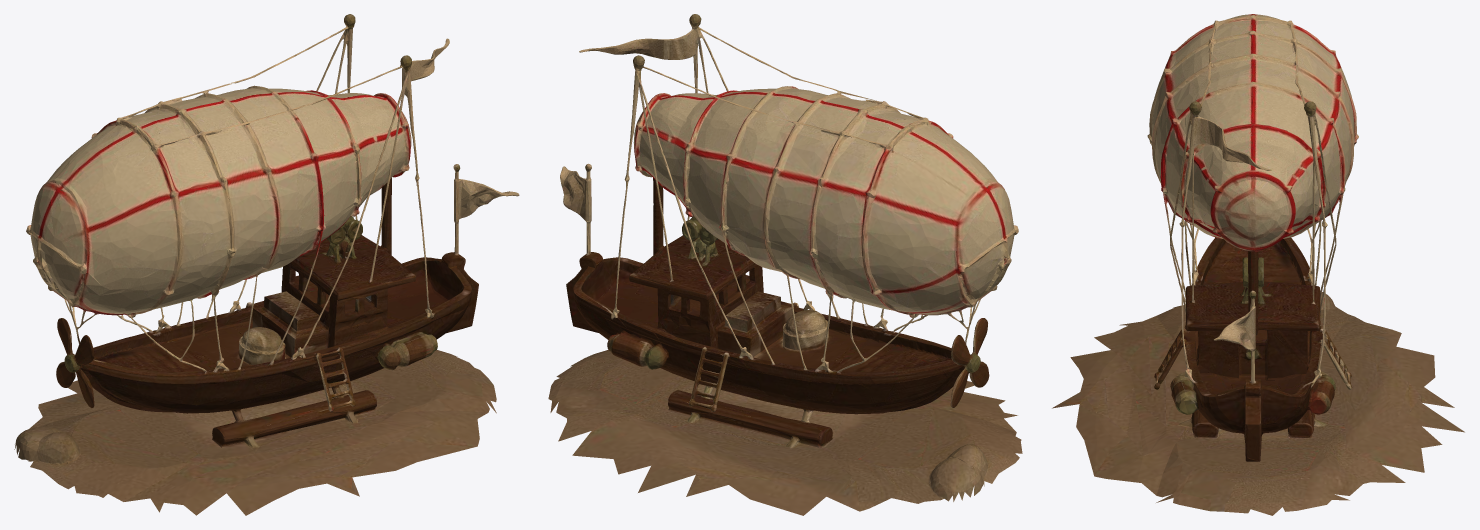
File: meshy_aeronave.glb
The picture shows the model from 3 angles, left to right: view 1: azimuth 30°, elevation 25°; view 2: azimuth 150°, elevation 25°; view 3: azimuth 270°, elevation 25°; orthographic projection.
Parts seen in each view (by area): view 1: 0; view 2: 0; view 3: 0.
Boxes of the visible parts, left/top/right/bottom form: 0: left=14, top=14, right=519, bottom=515; 0: left=548, top=14, right=1022, bottom=515; 0: left=1052, top=14, right=1464, bottom=515.
Bounding box in the file's own units: 1.88 × 1.41 × 1.44.
1 material, 1 textured.
